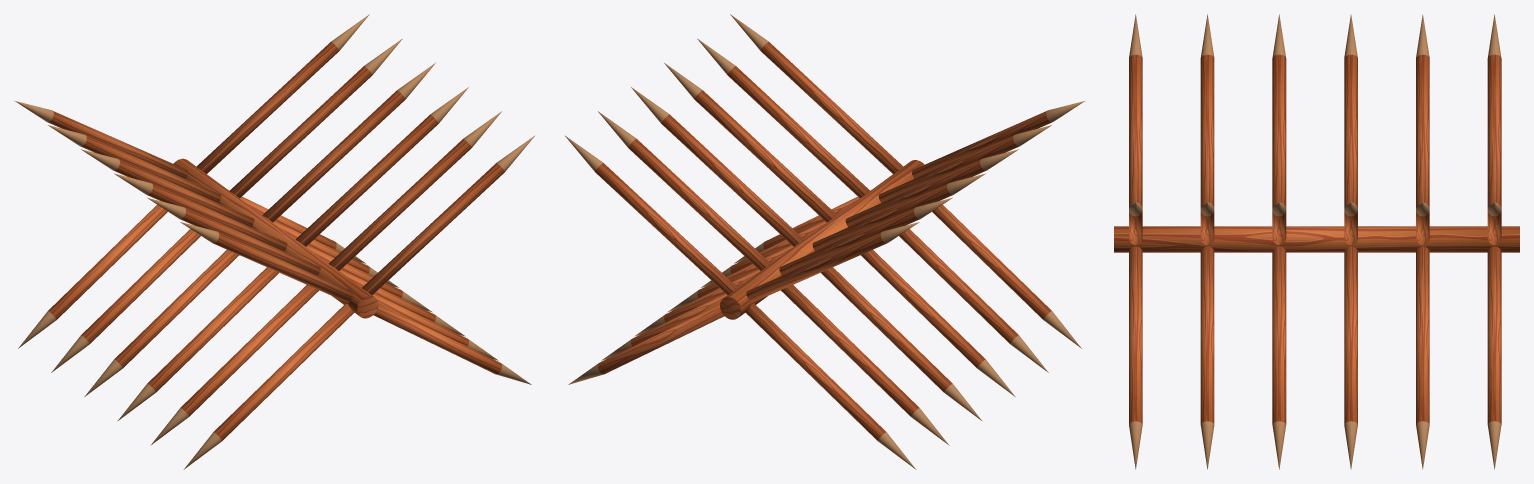
Rendered from HellSpikeTrap.fbx.
3 views of the same model, side by side, from view 1: azimuth 30°, elevation 25°; view 2: azimuth 150°, elevation 25°; view 3: azimuth 270°, elevation 25° (orthographic). The views are drawn at different scales.
Visible parts, largest first — view 1: SpikeTrap; view 2: SpikeTrap; view 3: SpikeTrap.
Part boxes in pixels (x1=…): SpikeTrap: x1=14, y1=14, x2=535, y2=469; SpikeTrap: x1=564, y1=14, x2=1085, y2=469; SpikeTrap: x1=1114, y1=14, x2=1519, y2=469.
Bounding box in the file's own units: 81.12 × 54.26 × 73.95.
